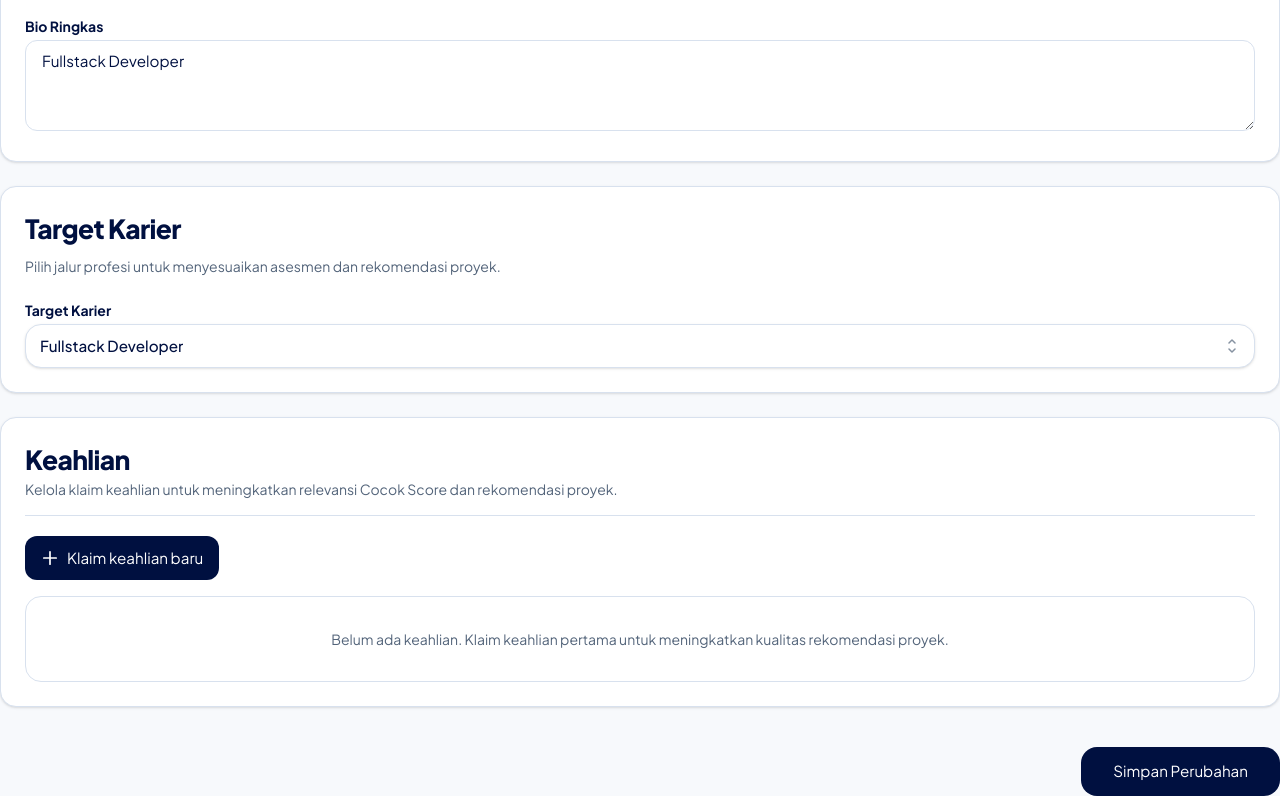
Test: TalentProfileForm › announces successful profile updates
The width and height of the screenshot is (1280, 796).
(page scrolled)
Click the button "Simpan Perubahan". click: (1181, 772)
box: [1081,747,1279,795]
(page scrolled)
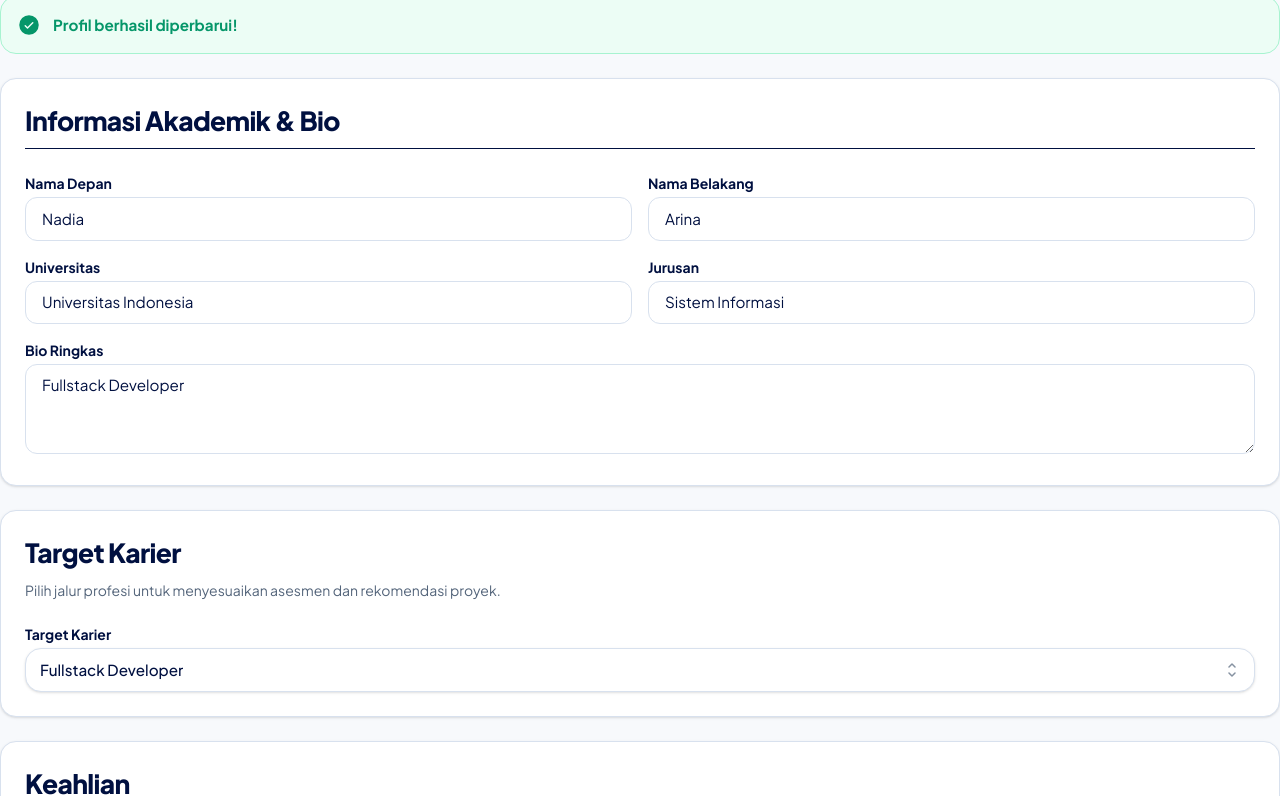
Now the message reads "Profil berhasil diperbarui!", box [53,15,238,34]
